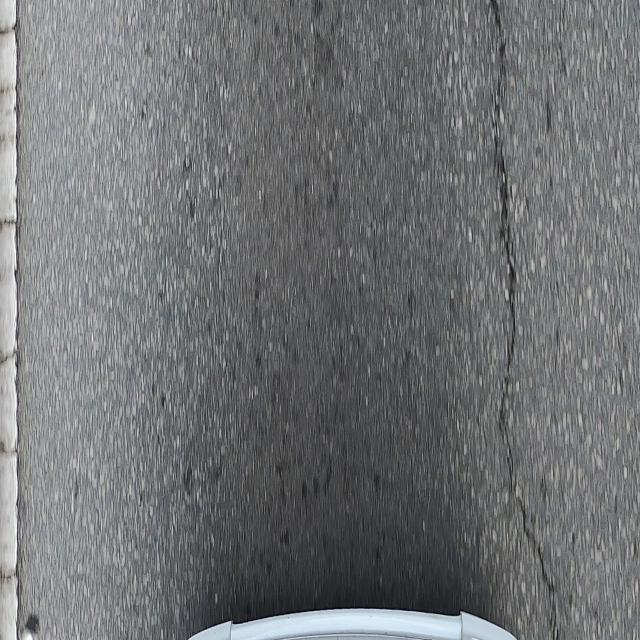Retak-Memanjang: (487, 0, 561, 640)
